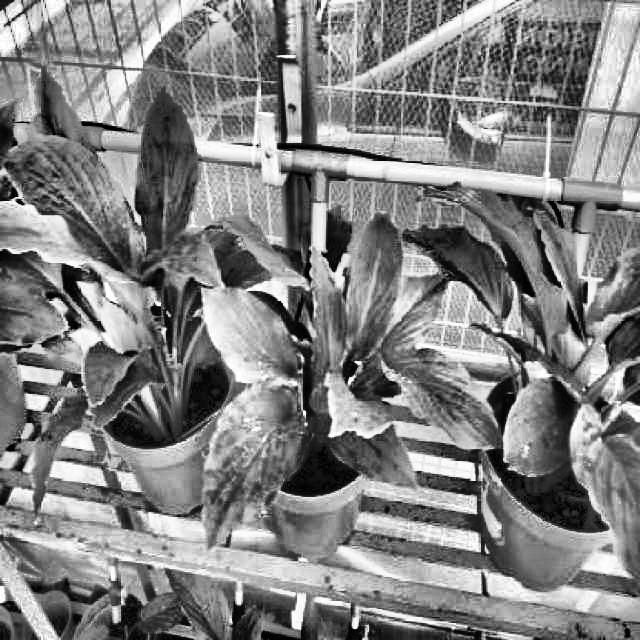plants: (0, 65, 311, 528), (200, 210, 505, 556), (400, 178, 640, 592)
